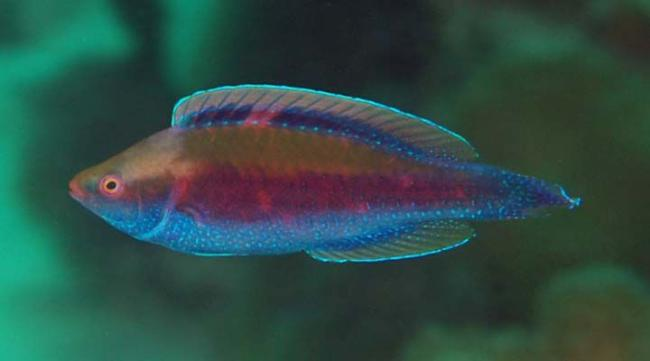fish: (67, 82, 582, 264)
